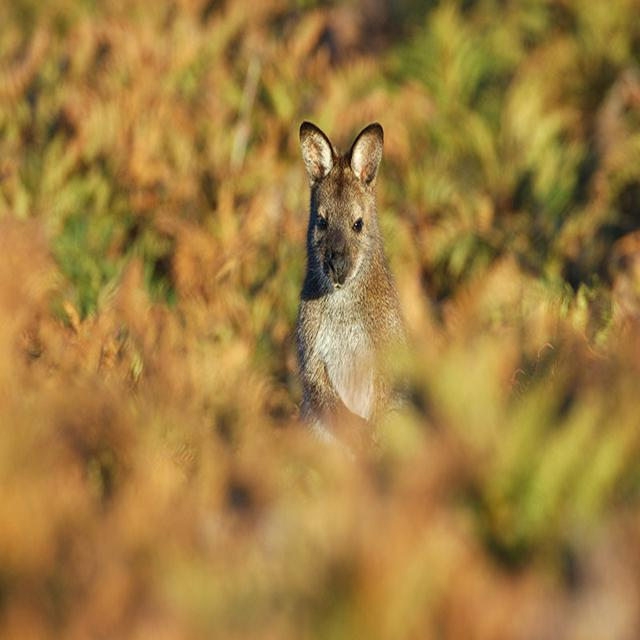kangaroo: (284, 116, 428, 432)
